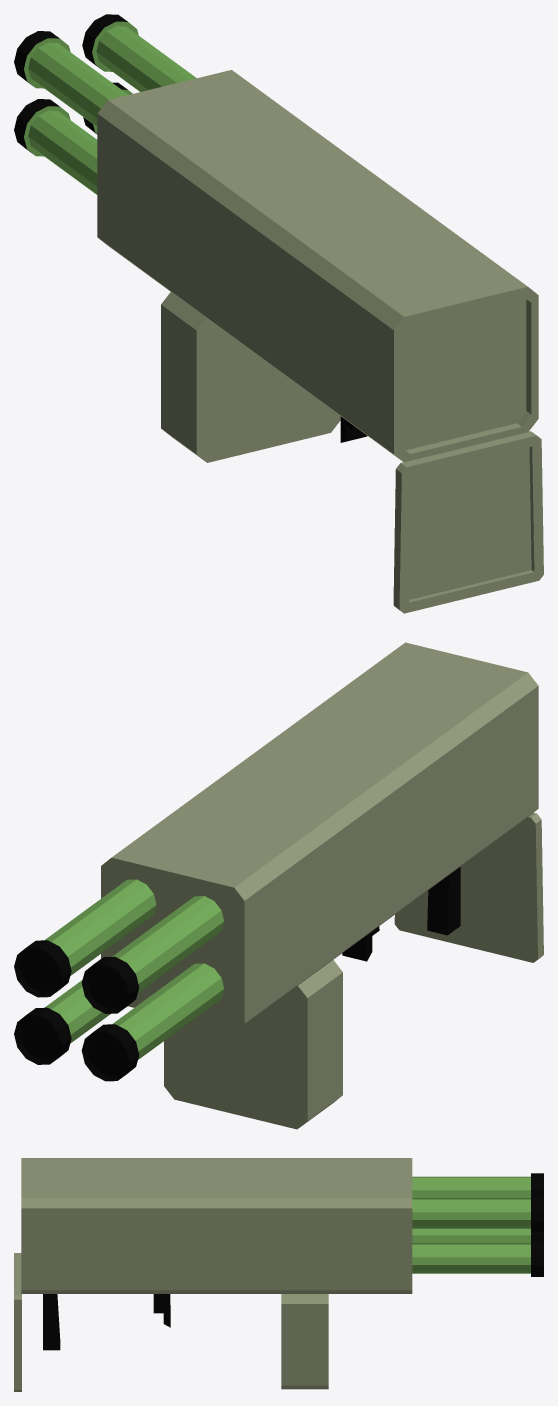
The model's file is rocketlaunchercolor.fbx.
3 views of the same model, one above another, from view 1: azimuth 30°, elevation 25°; view 2: azimuth 150°, elevation 25°; view 3: azimuth 270°, elevation 25° (orthographic). The views are drawn at different scales.
Parts seen in each view (by area): view 1: pCube1, pCube3, pCube2, pCylinder2, pCylinder1, pCylinder3; view 2: pCube1, pCube2, pCube3, pCylinder3, pCylinder1, pCylinder2, pCylinder4, pCube5; view 3: pCube1, pCube2, pCylinder1, pCylinder4, pCylinder2, pCylinder3, pCube3, pCube5, pCube4.
Boxes of the visible parts, x1,y1,x2,y2 form: pCube1: (97, 70, 538, 462); pCube3: (393, 431, 543, 613); pCube2: (161, 292, 340, 462); pCylinder2: (14, 31, 128, 126); pCylinder1: (82, 14, 196, 91); pCylinder3: (14, 99, 97, 194); pCube1: (101, 642, 538, 1031); pCube2: (164, 960, 342, 1129); pCube3: (394, 812, 543, 962); pCylinder3: (81, 963, 223, 1081); pCylinder1: (14, 879, 156, 997); pCylinder2: (81, 896, 224, 1013); pCylinder4: (14, 980, 153, 1064); pCube5: (427, 867, 460, 935); pCube1: (21, 1158, 412, 1293); pCube2: (281, 1294, 328, 1389); pCylinder1: (412, 1195, 543, 1231); pCylinder4: (412, 1240, 543, 1276); pCylinder2: (412, 1173, 543, 1198); pCylinder3: (412, 1228, 543, 1243); pCube3: (14, 1253, 21, 1391); pCube5: (43, 1294, 60, 1350); pCube4: (153, 1294, 170, 1327).
Bounding box in the file's own units: 0.7975 × 1.53 × 3.83.
